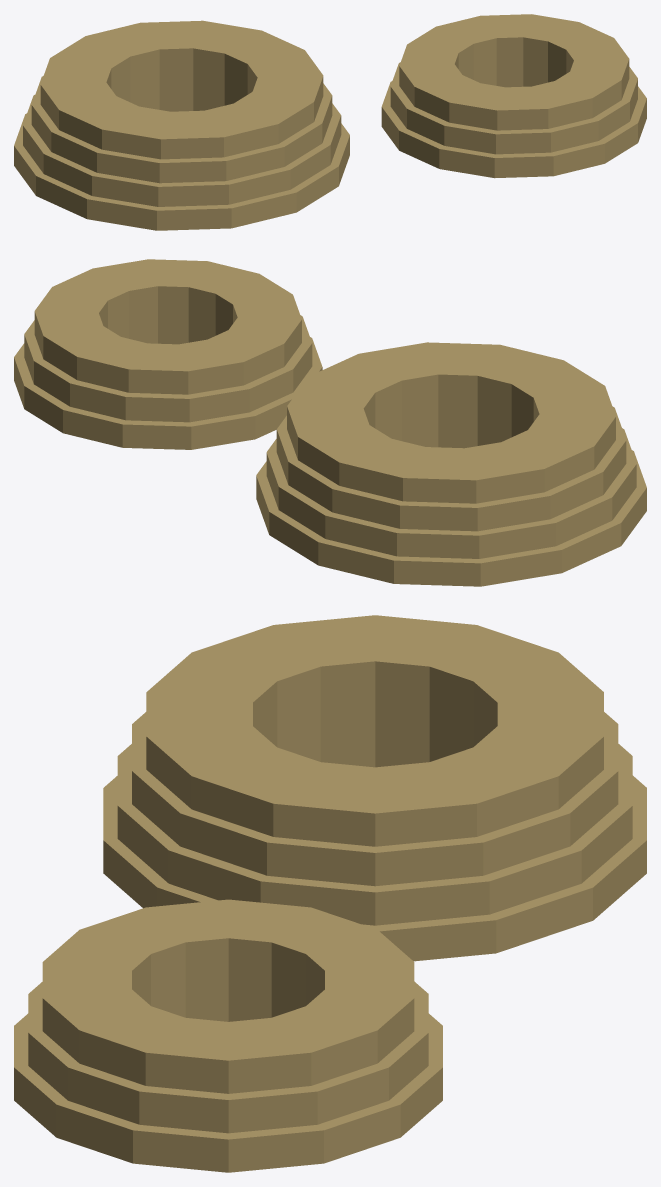
Rendered from hb_rope_coil.glb.
3 renders of one model, top to bottom at view 1: azimuth 30°, elevation 25°; view 2: azimuth 150°, elevation 25°; view 3: azimuth 270°, elevation 25°, orthographic. The views are drawn at different scales.
Visible parts, largest first — view 1: hb_rope_coil; view 2: hb_rope_coil; view 3: hb_rope_coil.
Boxes of the visible parts, bbox=[...] form: hb_rope_coil: bbox=[14, 14, 646, 230]; hb_rope_coil: bbox=[14, 259, 646, 586]; hb_rope_coil: bbox=[14, 615, 646, 1172].
Bounding box in the file's own units: 1.43 × 0.2 × 0.863.
